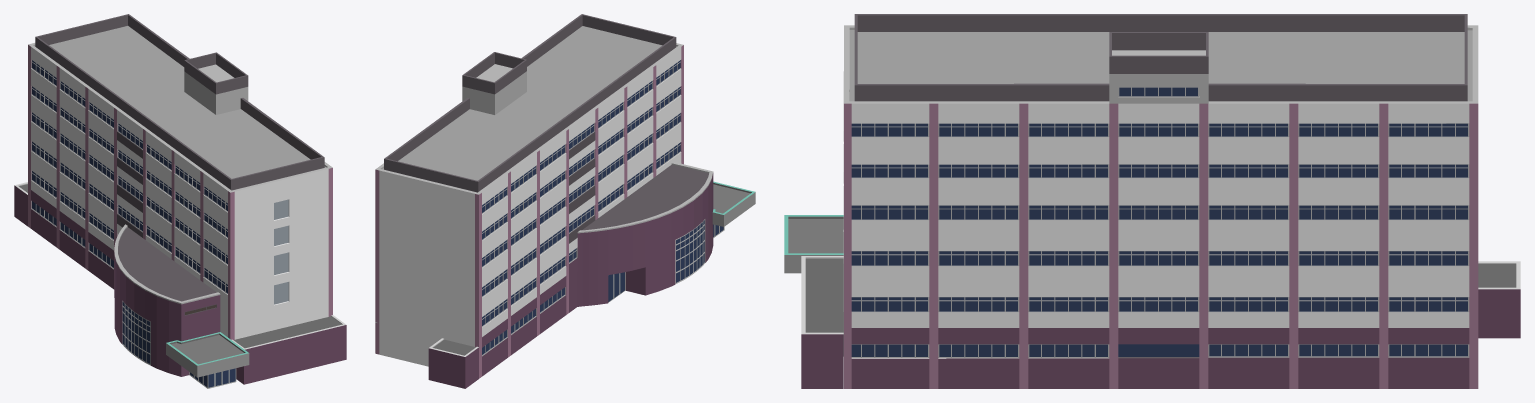
File: Building_U.fbx
The picture shows the model from 3 angles, left to right: view 1: azimuth 30°, elevation 25°; view 2: azimuth 150°, elevation 25°; view 3: azimuth 270°, elevation 25°; orthographic projection. The views are drawn at different scales.
Visible parts, largest first — view 1: Building_U; view 2: Building_U; view 3: Building_U.
Part boxes in pixels (x1,y1,x2,y2): Building_U: (14,14,346,388); Building_U: (375,14,755,388); Building_U: (784,14,1520,388).
Bounding box in the file's own units: 20.16 × 26.26 × 52.72.
